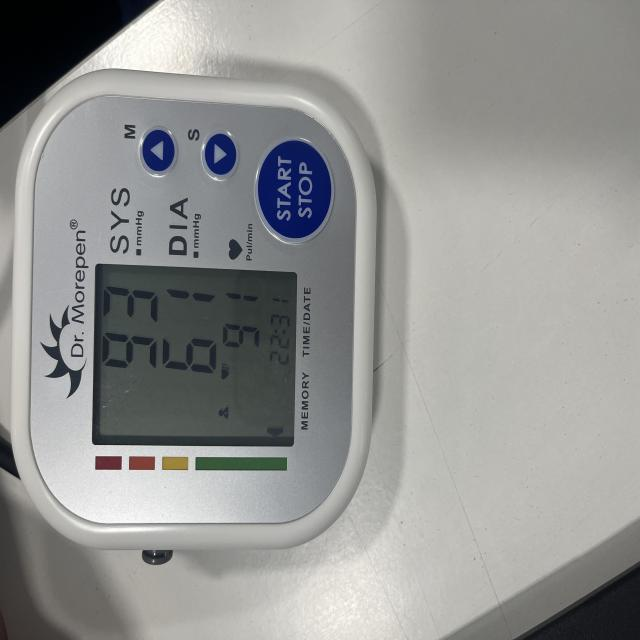bp: (0, 5, 407, 640)
